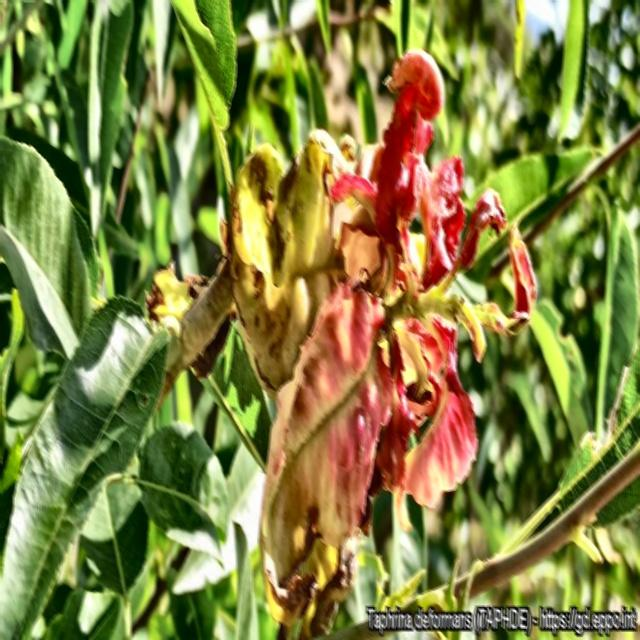leaf_curl: (260, 276, 392, 637)
